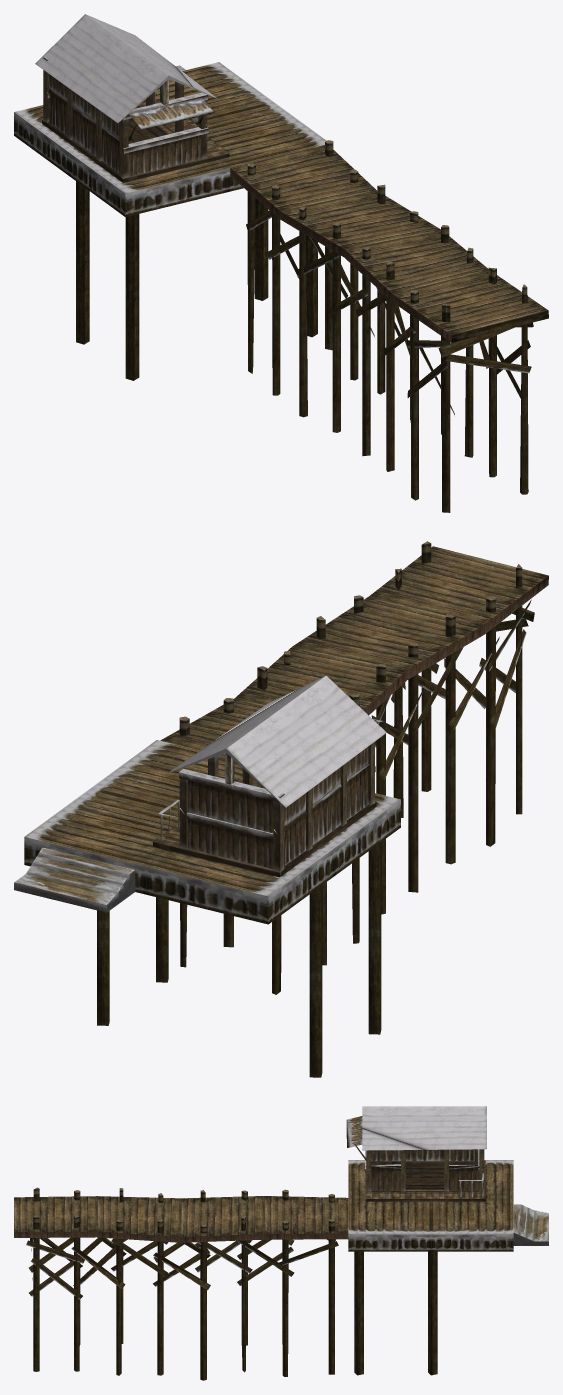
File: nsm-general_obj_01_lod_01.glb
3 views of the same model, one above another, from view 1: azimuth 30°, elevation 25°; view 2: azimuth 150°, elevation 25°; view 3: azimuth 270°, elevation 25° (orthographic). The views are drawn at different scales.
Visible parts, largest first — view 1: Box02; view 2: Box02; view 3: Box02.
Part boxes in pixels (<box>): Box02: <box>14,14,548,512</box>; Box02: <box>14,541,548,1077</box>; Box02: <box>14,1106,548,1380</box>.
Size of the model in its own units: 10.52 by 14.71 by 32.01.
2 materials, 2 textured.
